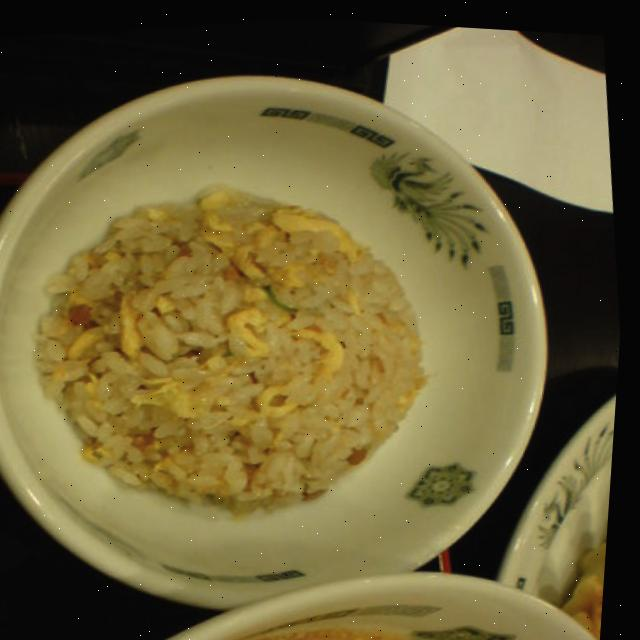米饭主食: (0, 42, 527, 578)
